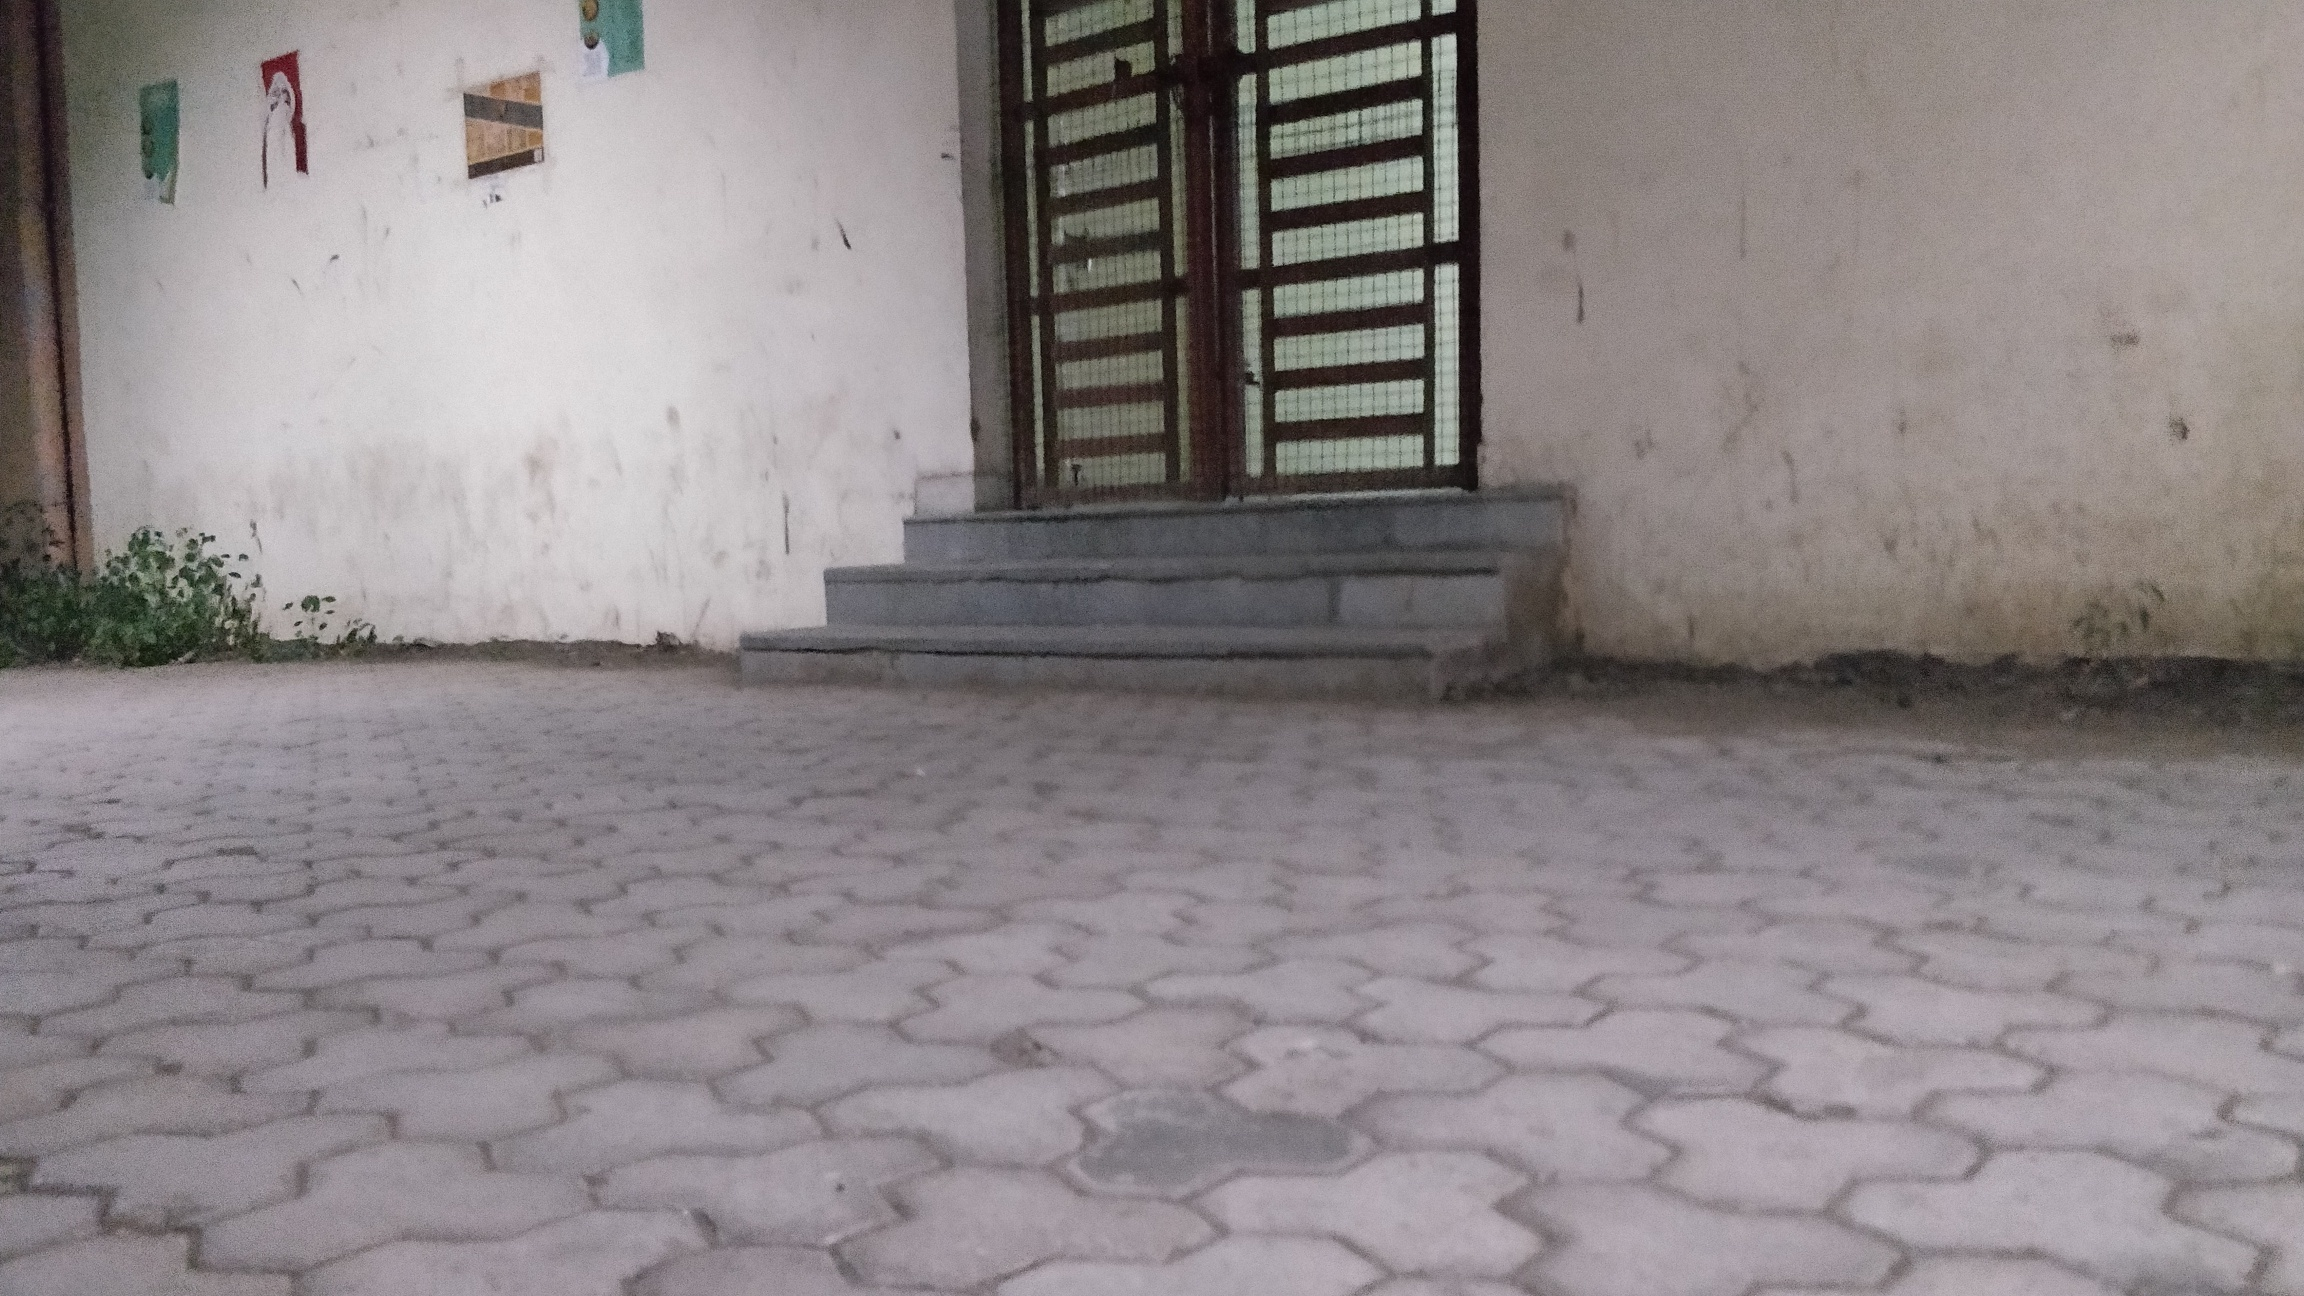stairs_up: (734, 484, 1560, 695)
